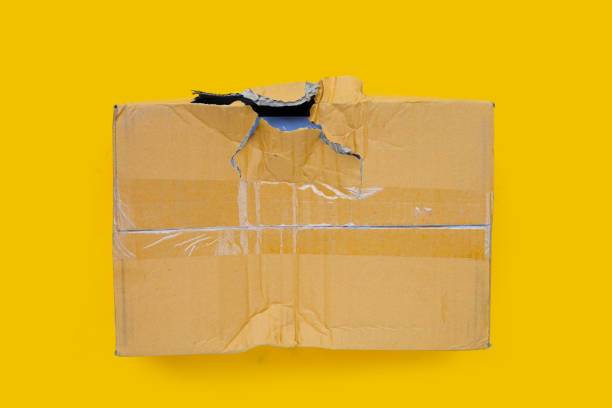damaged package: (174, 76, 385, 210), (324, 70, 366, 107)
